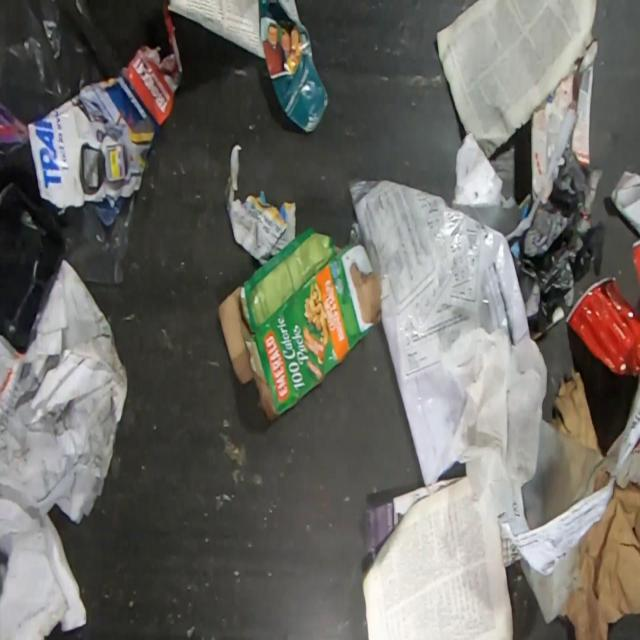cardboard: (214, 228, 380, 426), (529, 37, 599, 203)
rigid_plastic: (0, 170, 65, 355), (564, 238, 640, 394)
soft_plastic: (348, 178, 531, 486), (516, 107, 608, 342), (0, 0, 105, 128), (60, 196, 139, 286)
